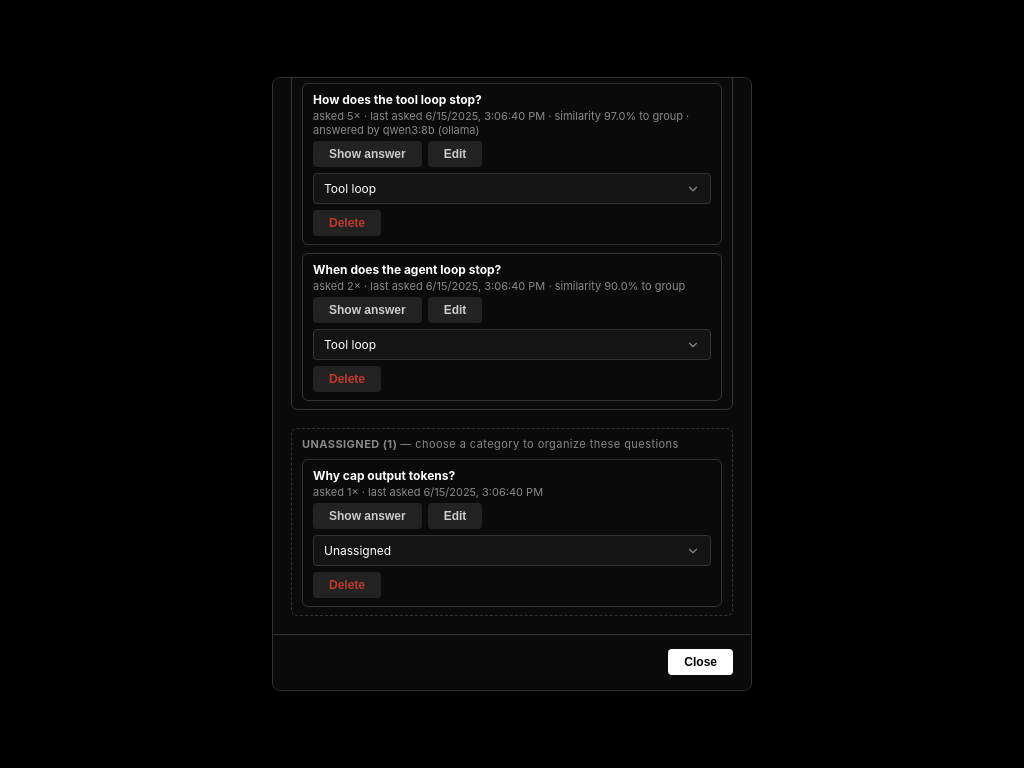
Test: FaqPanel › moves a question and immediately updates category membership and counts
This screenshot has width=1024, height=768.
(page scrolled)
Click the button "Unassigned": [358, 551] box [313,535,711,566]
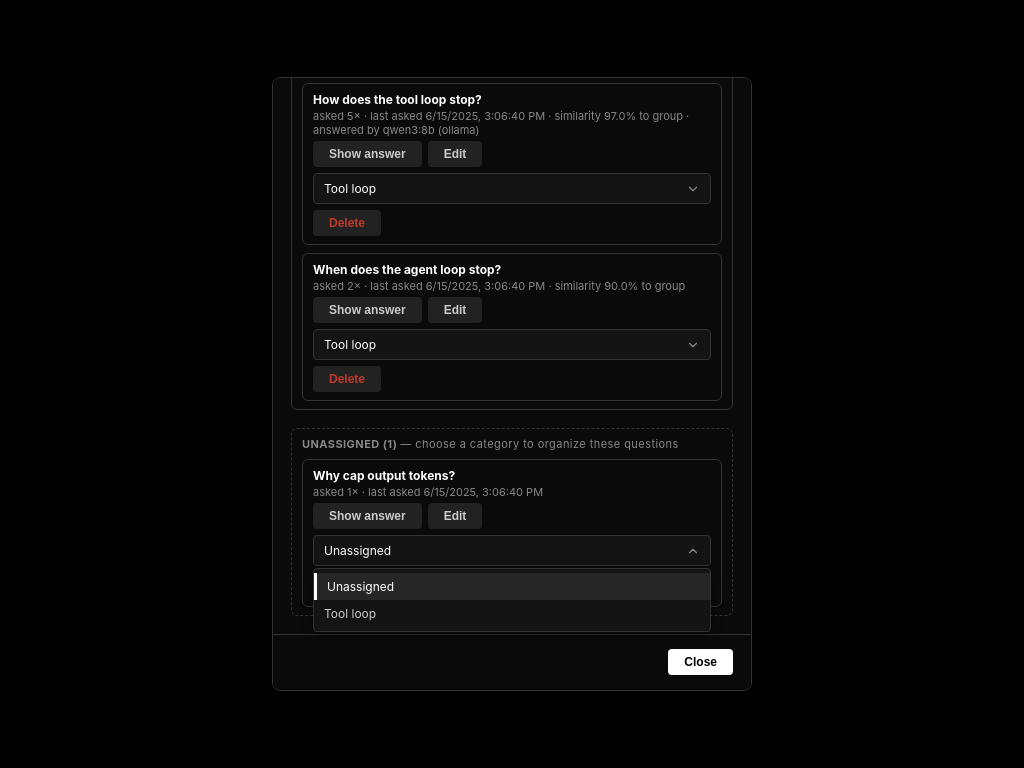
Click the option "Tool loop": [350, 614] box [324,606,376,621]
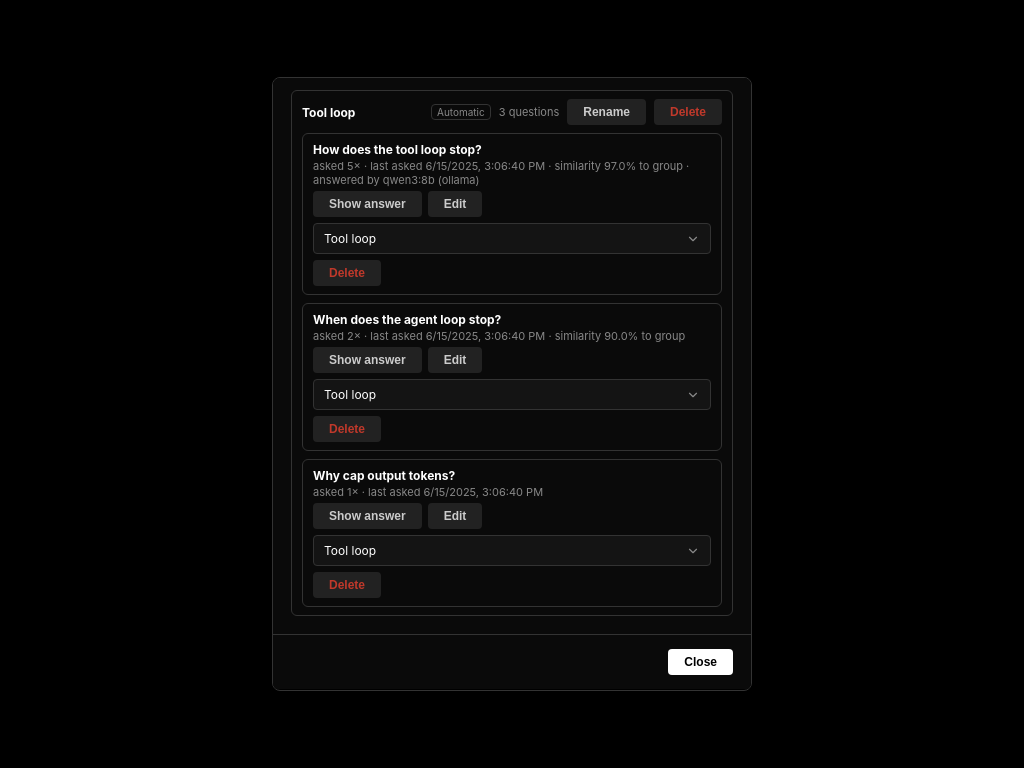
Expected: the text "Why cap output tokens?" is shown, [313,468,455,483]
Expected: the text "Unassigned (1)" is gone
Expected: the text "3 questions" is shown, [499,105,559,119]
